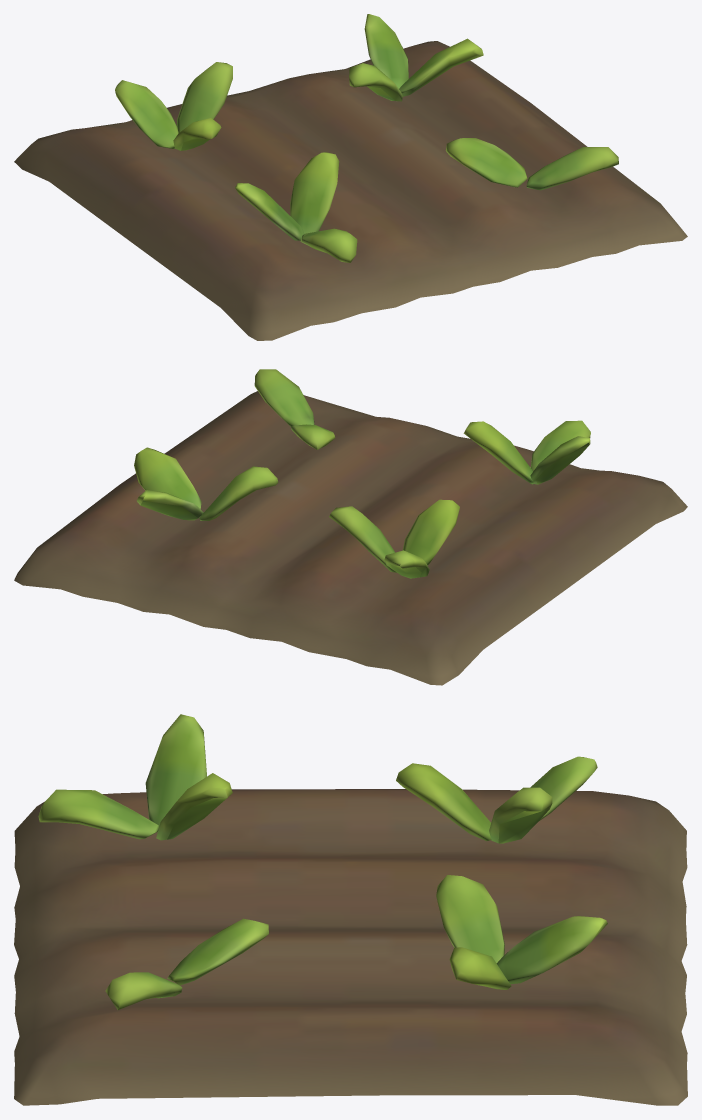
Rendered from SM_Crop_Corn_01.glb.
3 views of the same model, one above another, from view 1: azimuth 30°, elevation 25°; view 2: azimuth 150°, elevation 25°; view 3: azimuth 270°, elevation 25° (orthographic). The views are drawn at different scales.
Visible parts, largest first — view 1: SM_Crop_Corn_01; view 2: SM_Crop_Corn_01; view 3: SM_Crop_Corn_01.
Boxes of the visible parts, x1,y1,x2,y2 form: SM_Crop_Corn_01: [14, 14, 687, 340]; SM_Crop_Corn_01: [14, 369, 687, 685]; SM_Crop_Corn_01: [14, 714, 687, 1105].
Size of the model in its own units: 3.94 by 0.8986 by 3.93.
Materials: 1 (1 with a texture image).
